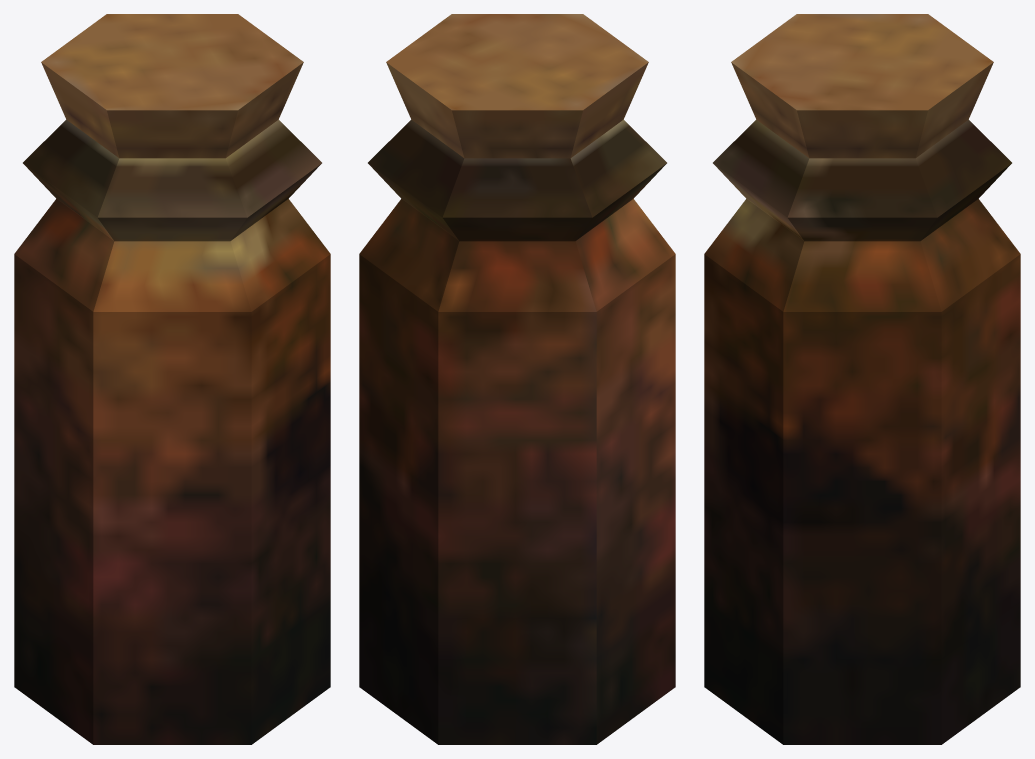
The model's file is GuanTou.fbx.
3 views of the same model, side by side, from view 1: azimuth 30°, elevation 25°; view 2: azimuth 150°, elevation 25°; view 3: azimuth 270°, elevation 25° (orthographic).
Parts seen in each view (by area): view 1: 3D_GuanTou.mo; view 2: 3D_GuanTou.mo; view 3: 3D_GuanTou.mo.
Boxes of the visible parts, left/top/right/bottom form: 3D_GuanTou.mo: left=14, top=14, right=330, bottom=744; 3D_GuanTou.mo: left=359, top=14, right=675, bottom=744; 3D_GuanTou.mo: left=704, top=14, right=1020, bottom=744.
Size of the model in its own units: 1.38 by 3.47 by 1.59.
Materials: 1 (1 with a texture image).
